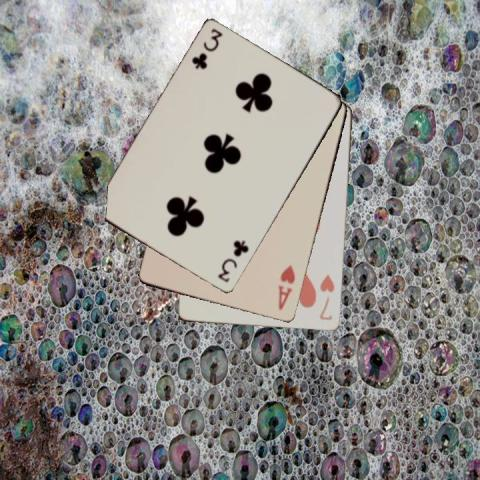3c: (214, 237, 250, 284), (189, 26, 224, 71)
7h: (317, 272, 336, 322)
Ah: (275, 263, 297, 312)
